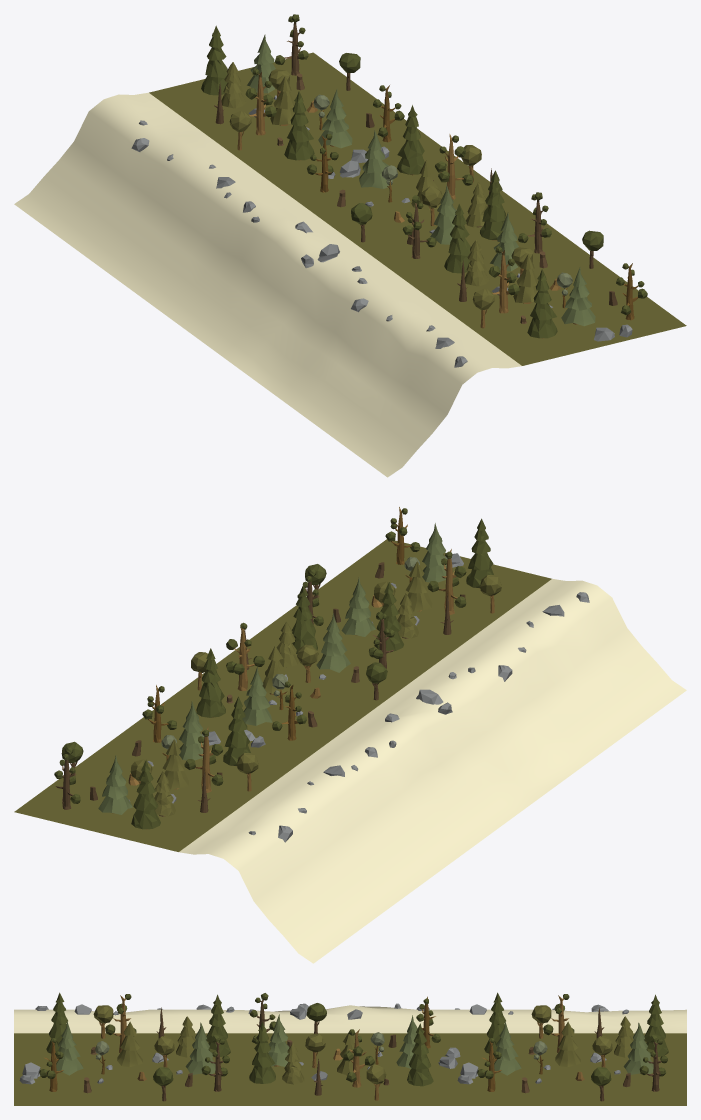
File: canoeTerrainPost_A.gltf
3 views of the same model, one above another, from view 1: azimuth 30°, elevation 25°; view 2: azimuth 150°, elevation 25°; view 3: azimuth 270°, elevation 25° (orthographic). The views are drawn at different scales.
Parts seen in each view (by area): view 1: canoeTerrainPost; view 2: canoeTerrainPost; view 3: canoeTerrainPost.
Boxes of the visible parts, x1,y1,x2,y2 form: canoeTerrainPost: (14, 14, 686, 477); canoeTerrainPost: (14, 507, 686, 963); canoeTerrainPost: (14, 992, 686, 1105).
Size of the model in its own units: 78.74 by 36.83 by 170.
